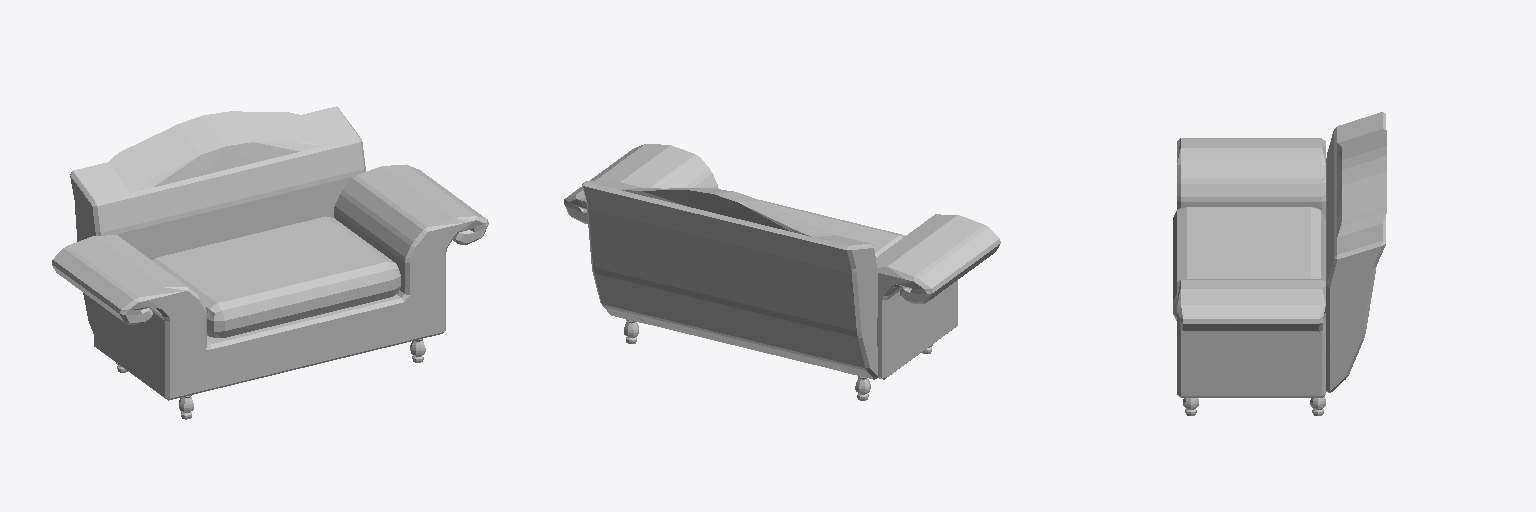
File: CouchRemodel_SubstancePaint.obj
The picture shows the model from 3 angles: view 1: azimuth 30°, elevation 25°; view 2: azimuth 150°, elevation 25°; view 3: azimuth 270°, elevation 25°; orthographic projection.
Visible parts, largest first — view 1: pCube3; view 2: pCube3; view 3: pCube3.
Boxes of the visible parts, x1,y1,x2,y2 form: pCube3: [52, 106, 488, 419]; pCube3: [564, 144, 1000, 400]; pCube3: [1173, 112, 1386, 415].
Size of the model in its own units: 8.43 by 4.41 by 4.24.